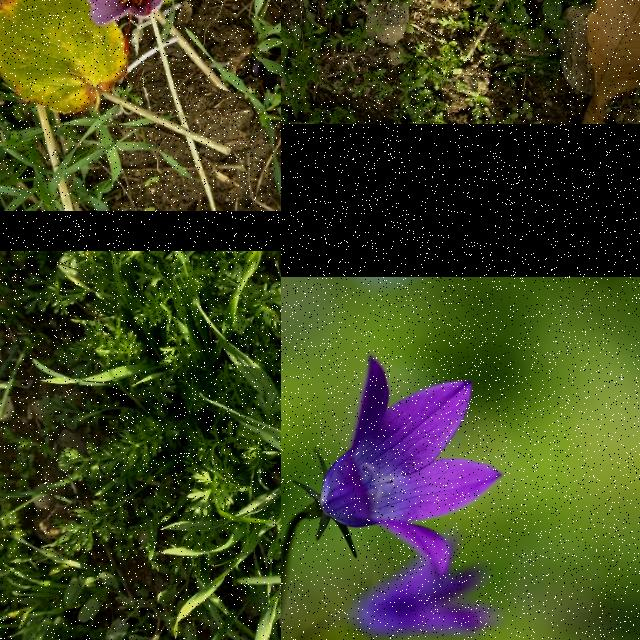flower: (81, 0, 172, 55)
